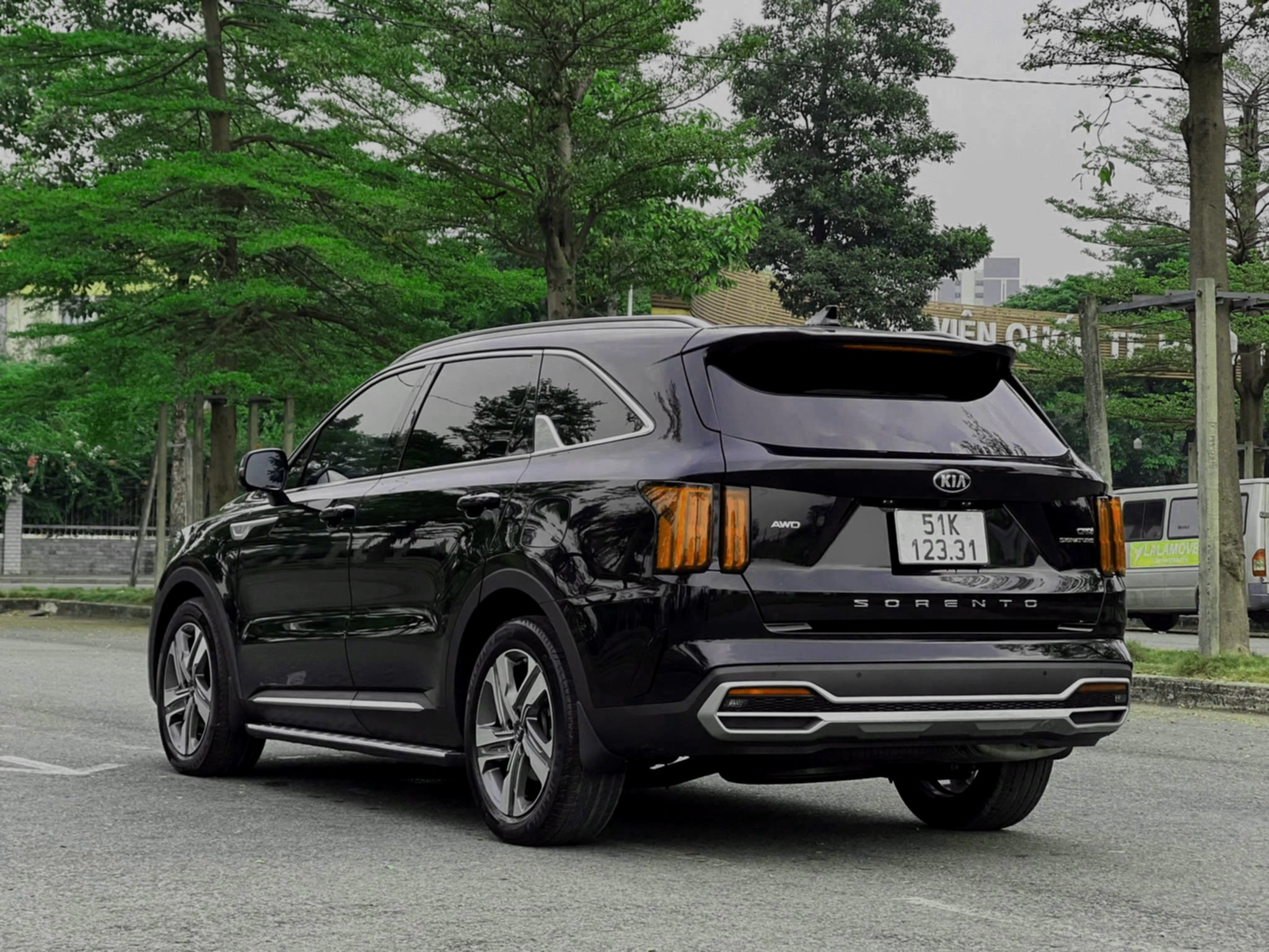Bien-so: (927, 490, 1032, 559)
